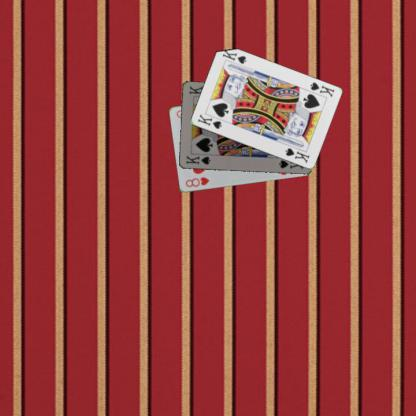8h: (183, 174, 210, 188)
Ks: (307, 80, 336, 98), (195, 112, 223, 130), (184, 153, 211, 166)
